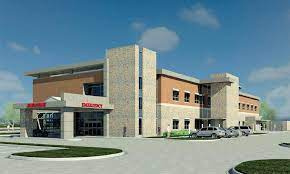Building House: (15, 60, 262, 136)
